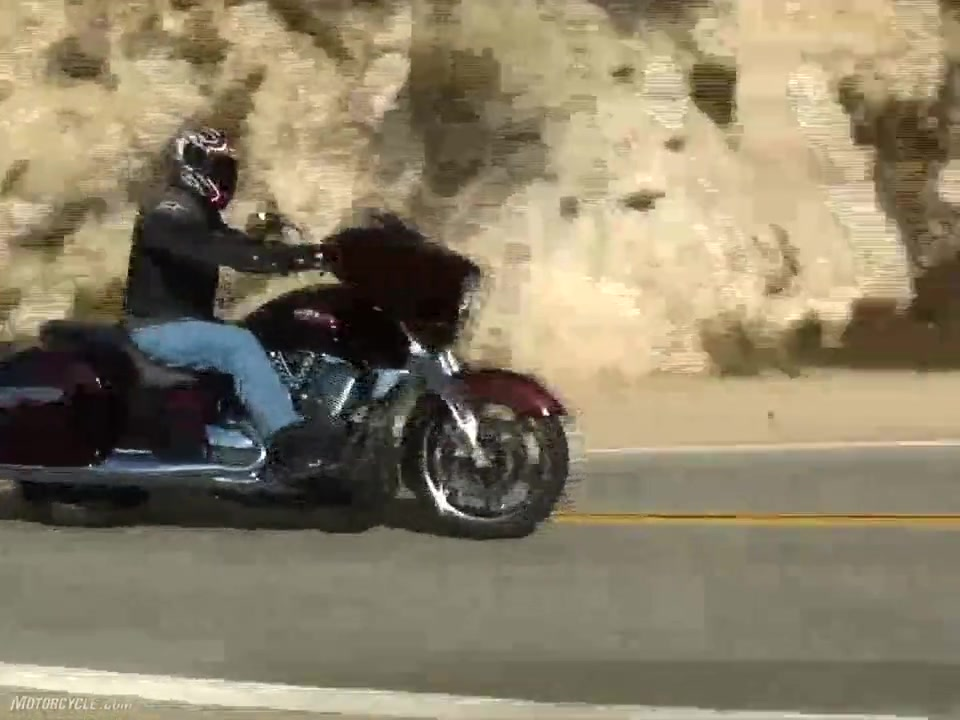motorbike: (1, 212, 571, 542)
